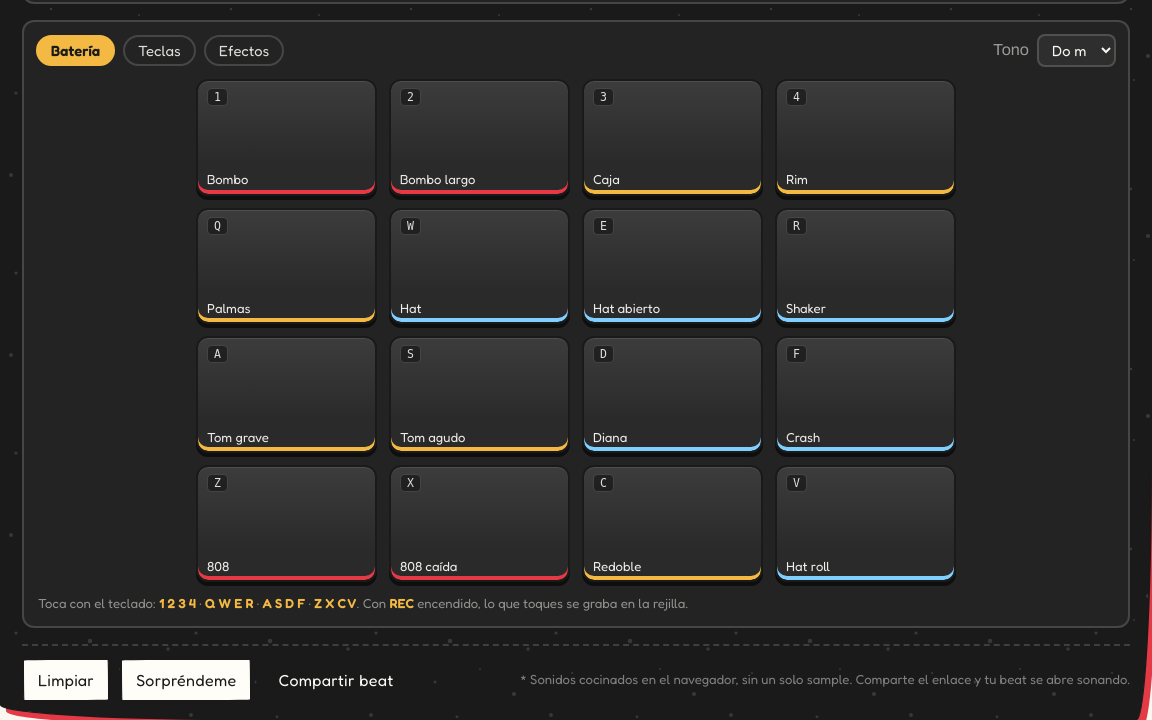
Scenario: La mesa de beats › comparte un enlace con el beat, el tempo y el swing
The width and height of the screenshot is (1152, 720).
(page scrolled)
Click the button "Compartir beat" at [336, 680], box [262, 658, 410, 702]
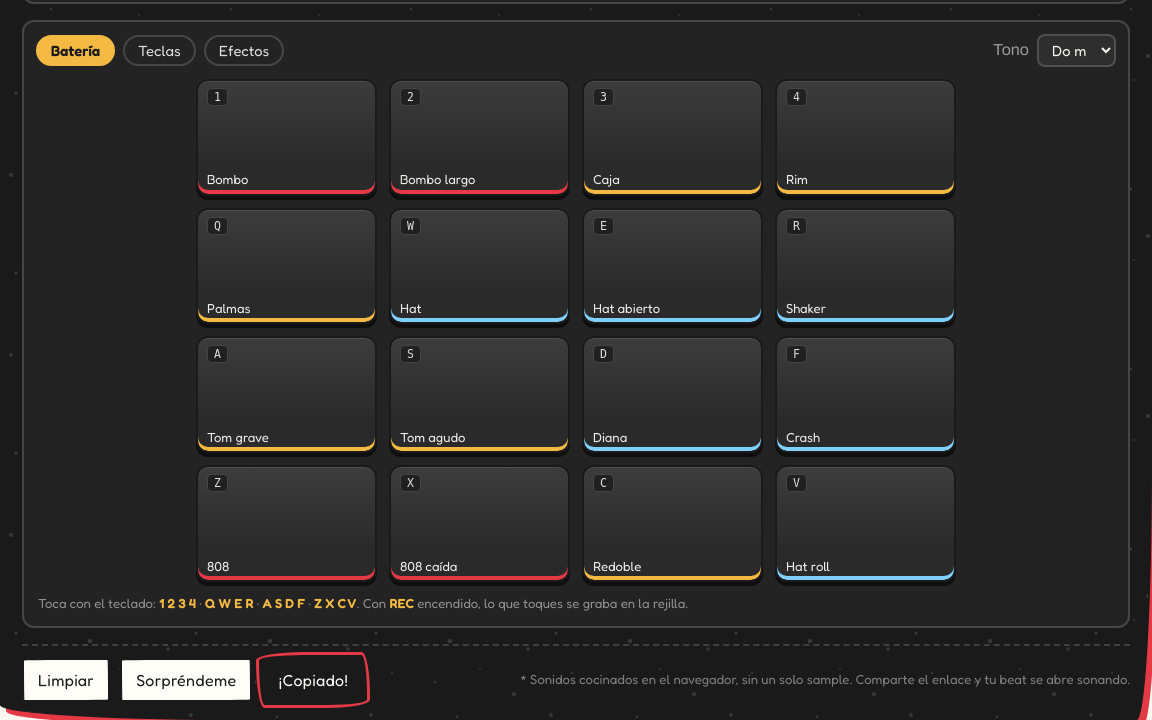
Result: the button "¡Copiado!" is shown at [262, 658, 364, 702]
